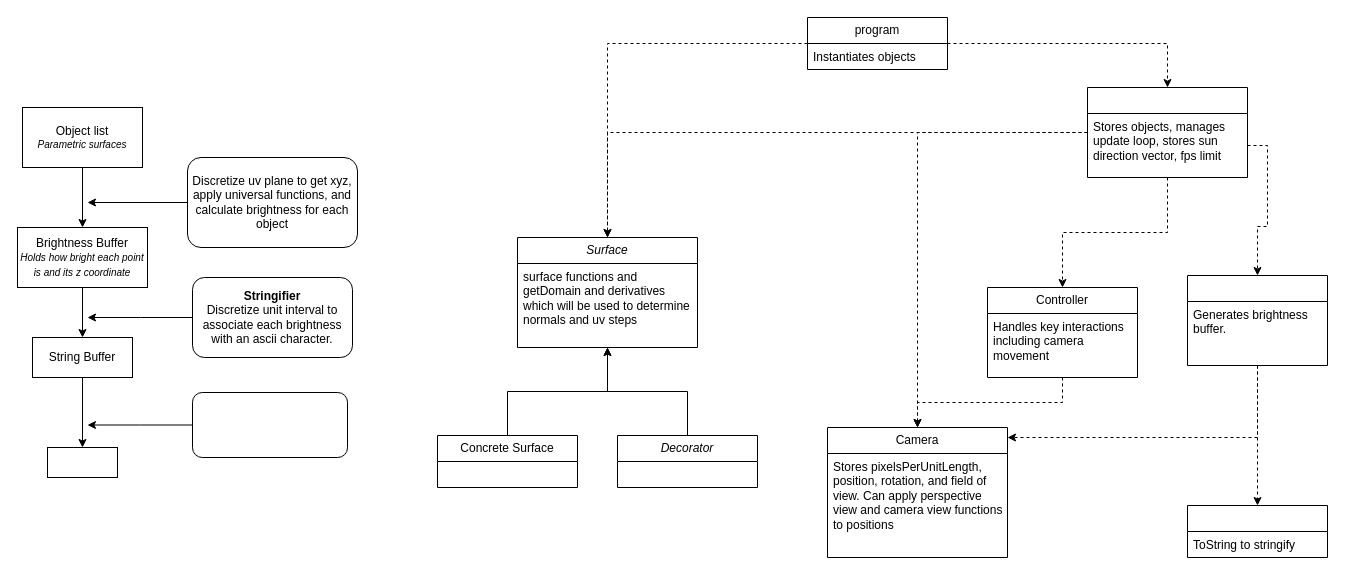
The diagram is 1345 pixels wide and 578 high, and some of its shapes have lost their labels. Here are the shapes that lost their labels. From the top down, the box of each, then its label:
(1086, 86, 1248, 178): Manager
(1186, 274, 1328, 366): Render
(192, 392, 348, 458): Either print or directly manipulate console buffer
(46, 446, 118, 478): Console
(1186, 504, 1328, 558): Brightness Buffer
